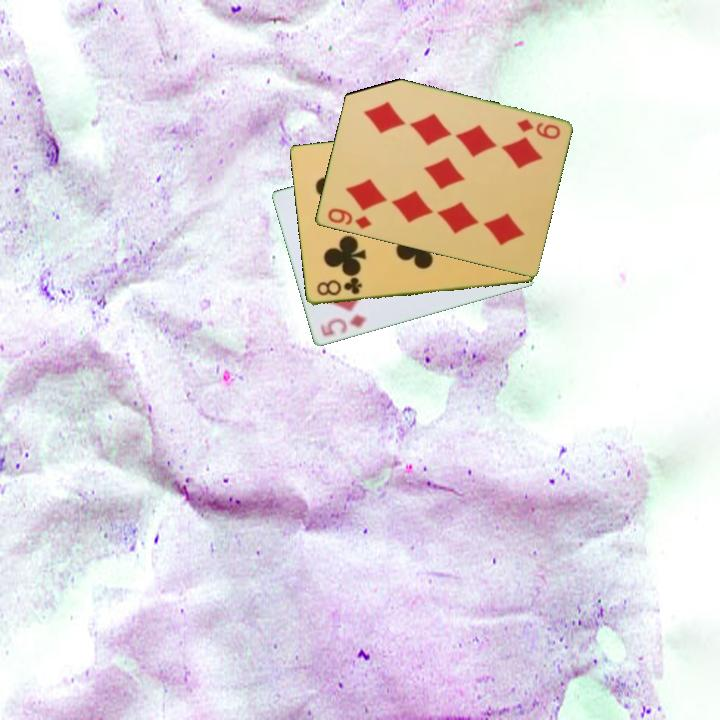5d: (316, 311, 368, 340)
8c: (313, 275, 365, 299)
9d: (324, 205, 374, 232), (513, 115, 563, 142)
